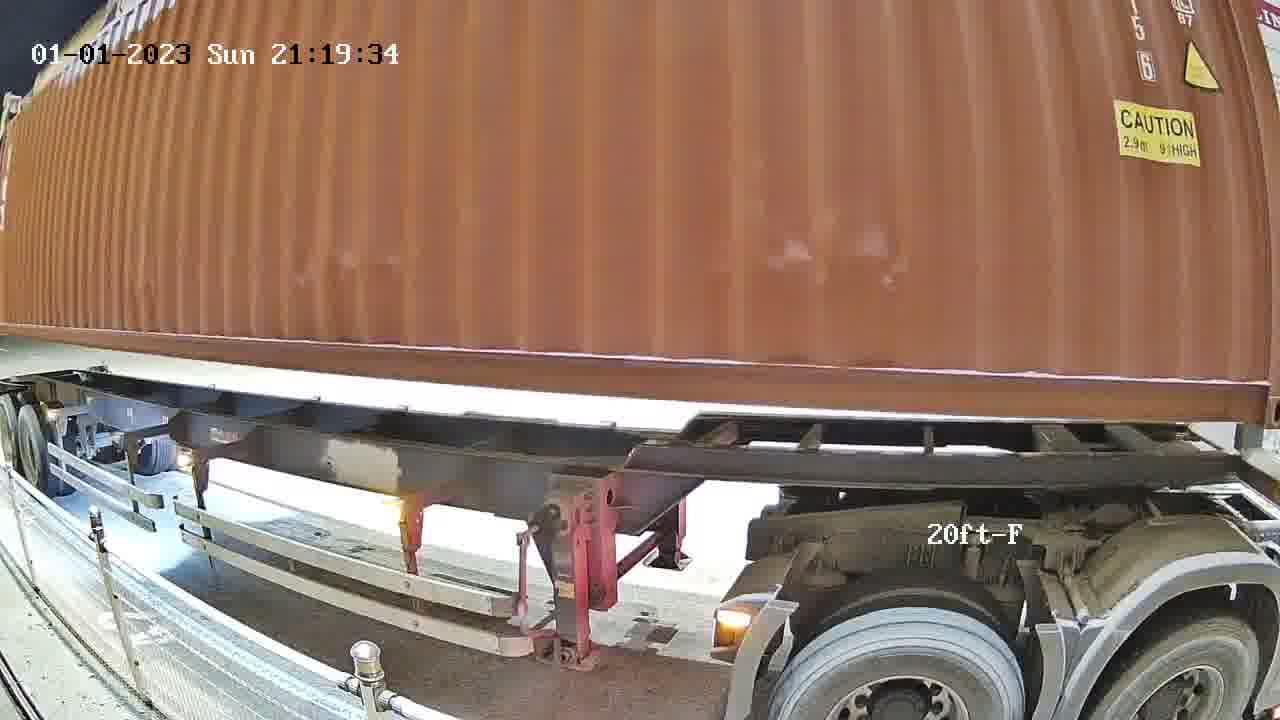Hole_L: (1227, 361, 1279, 427)
Tire: (769, 608, 1031, 709), (1092, 619, 1262, 717)
